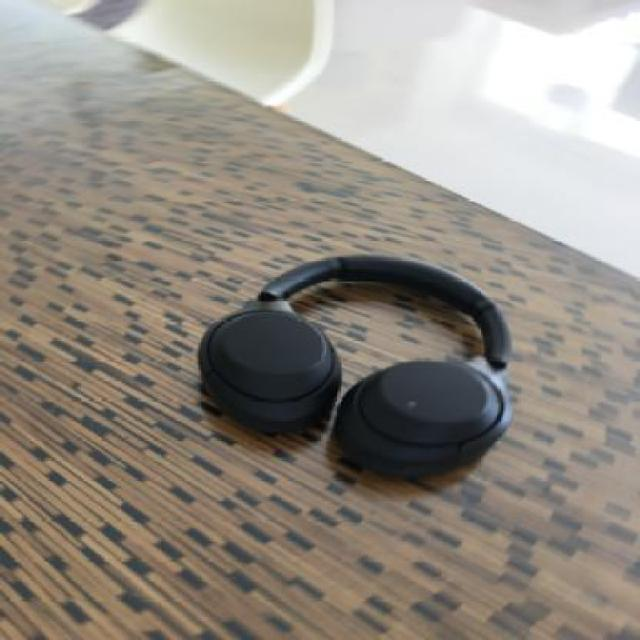earphone: (183, 154, 575, 534)
